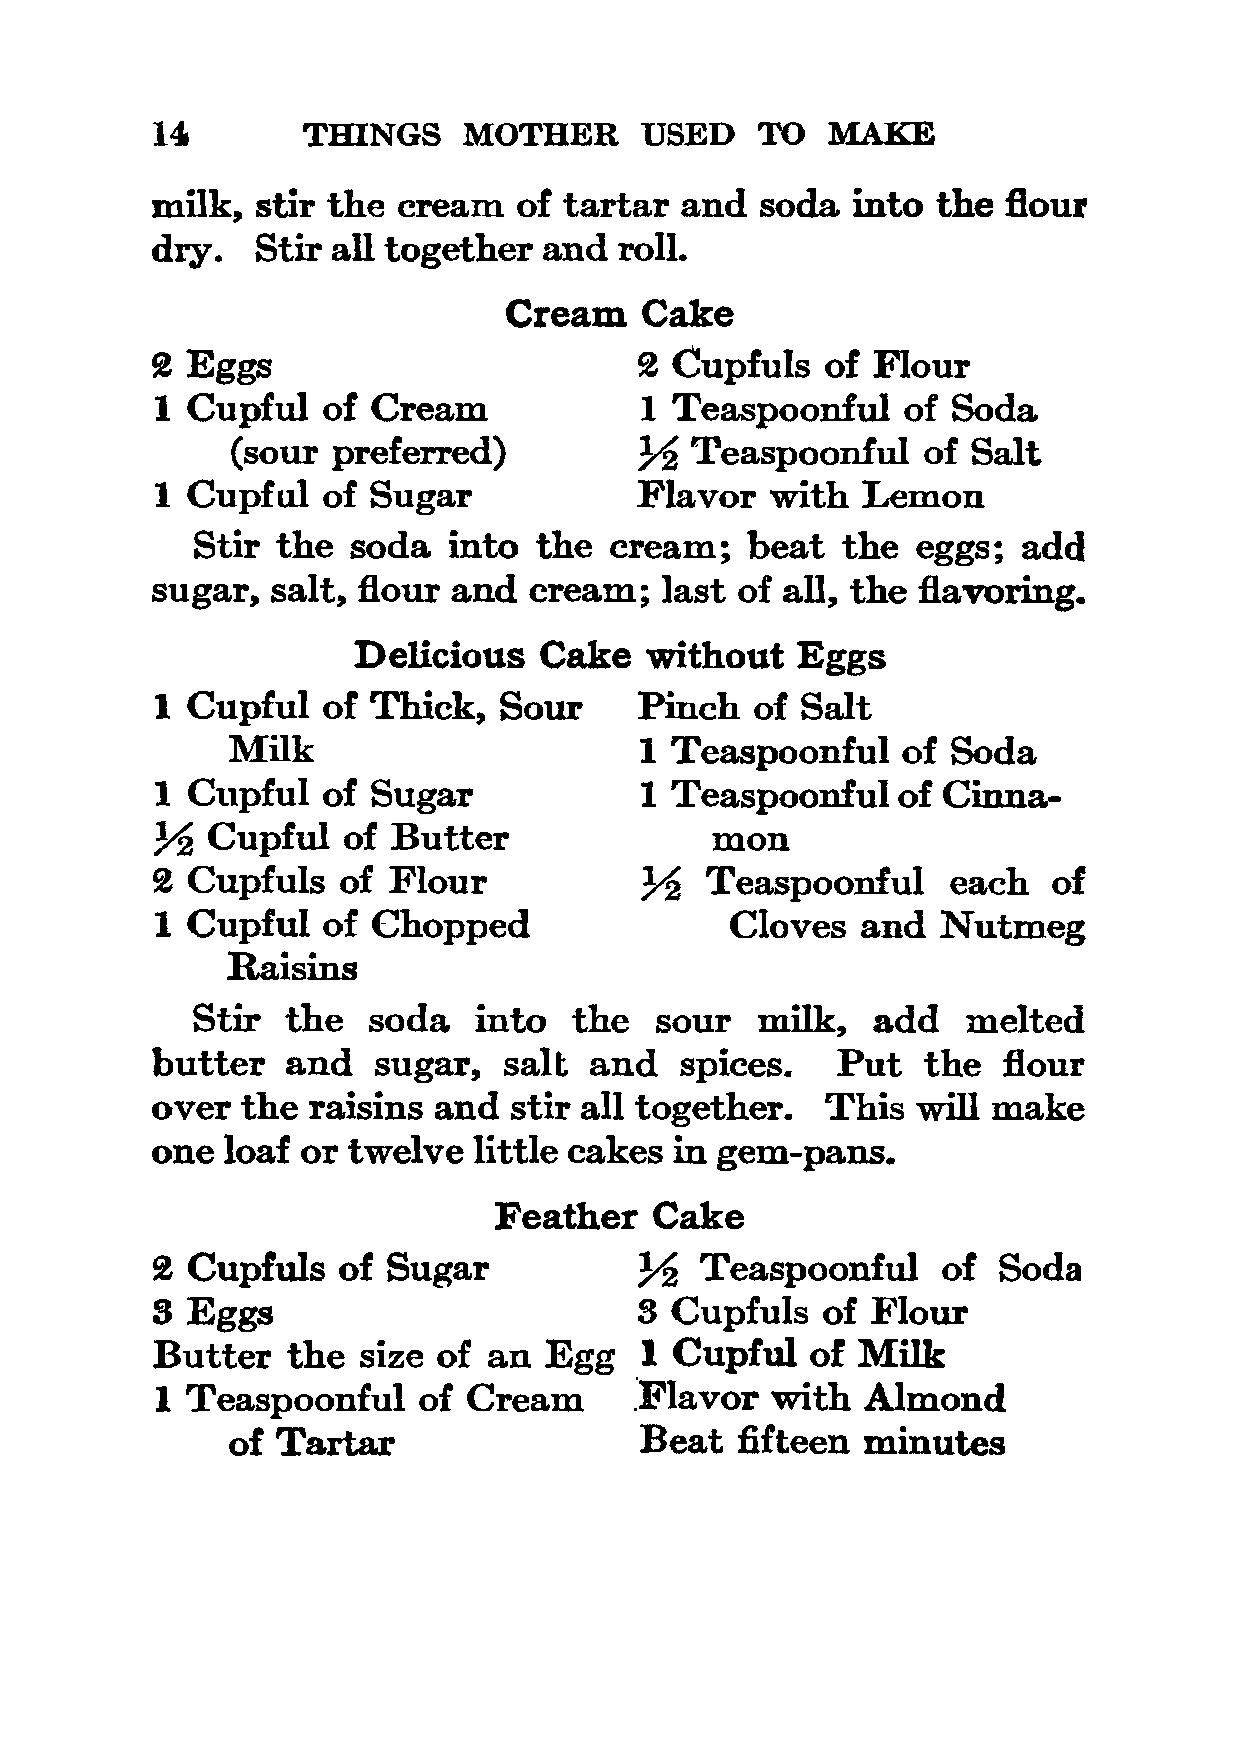content: (148, 183, 1091, 1463)
content_chapter: (294, 117, 937, 149)
content_pagenumber: (148, 111, 191, 154)
